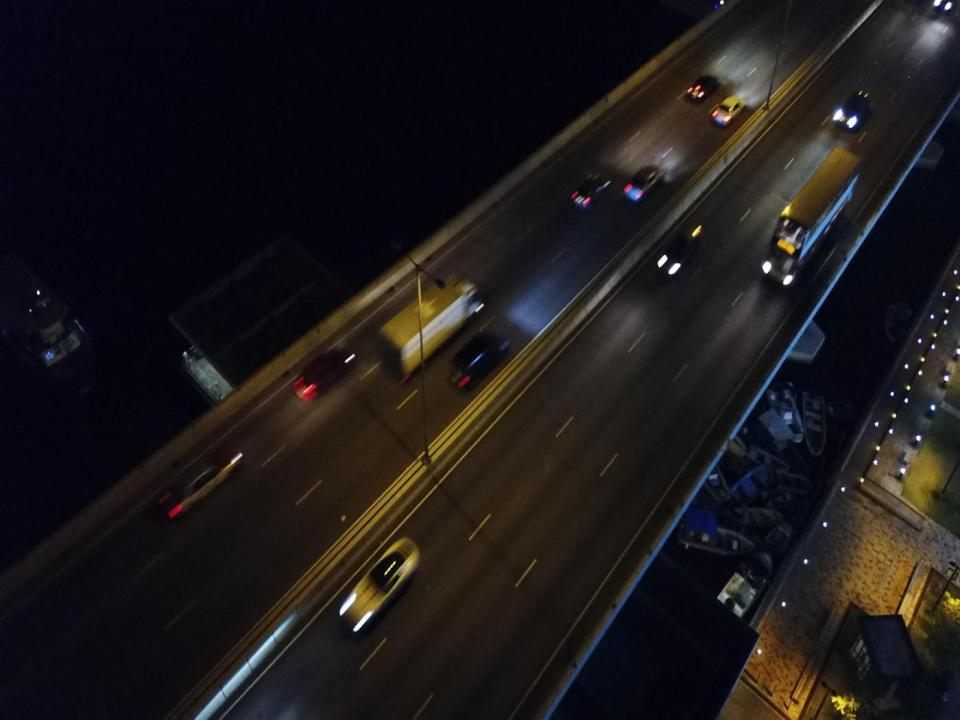car: (344, 535, 419, 634), (158, 446, 241, 518), (451, 333, 510, 389), (294, 348, 355, 396), (657, 220, 702, 276), (570, 164, 615, 211), (624, 162, 666, 202), (835, 89, 870, 129), (711, 96, 747, 125), (687, 75, 720, 103)
truck: (762, 144, 861, 288), (382, 271, 482, 383)
